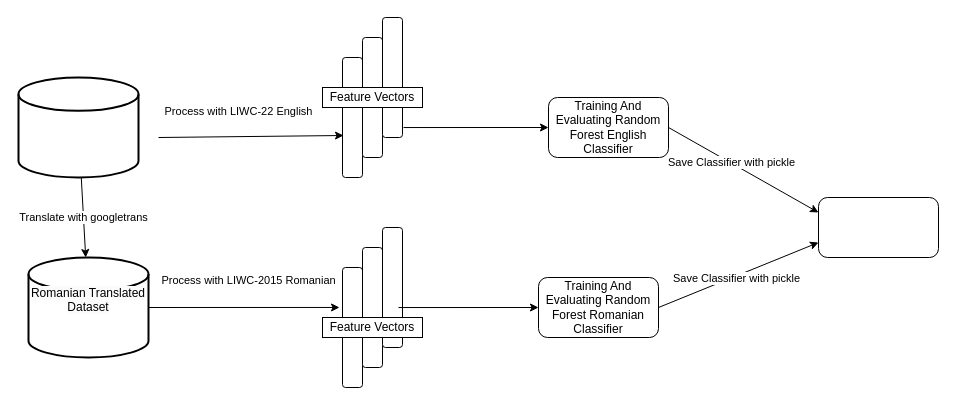
This 956x405 diagram has some shape labels left out. The centre of each missing label's shape, as x and y in pixels:
"English Original Dataset" belongs at (x=78, y=127).
"Load Classifier in Depression Detection Tool Backend" belongs at (x=878, y=227).
